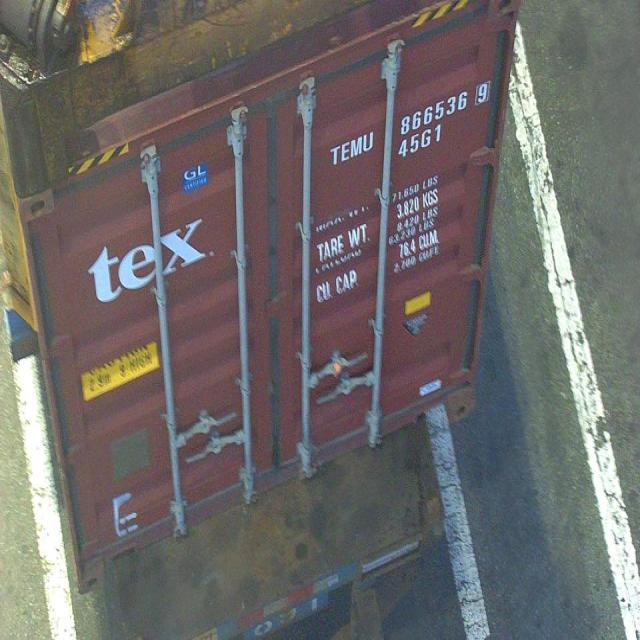ISO: (395, 121, 442, 159)
container_number: (331, 76, 488, 166)
